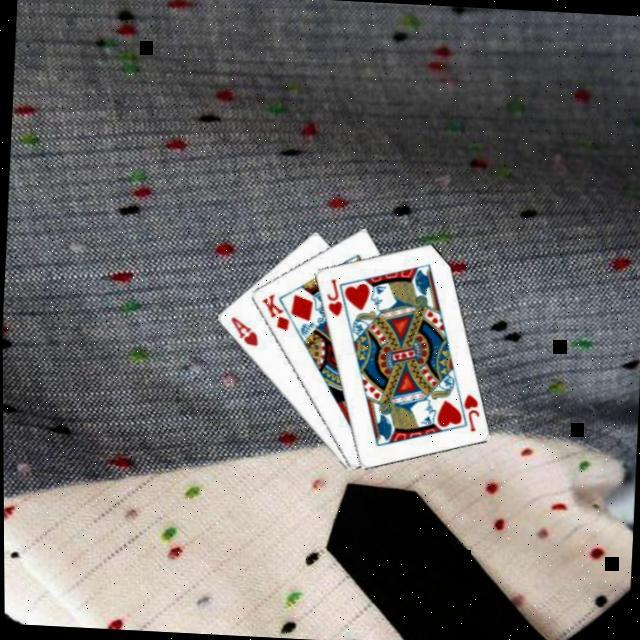AH: (223, 315, 260, 351)
JH: (456, 393, 481, 436), (320, 278, 344, 321)
KD: (255, 292, 291, 336)
